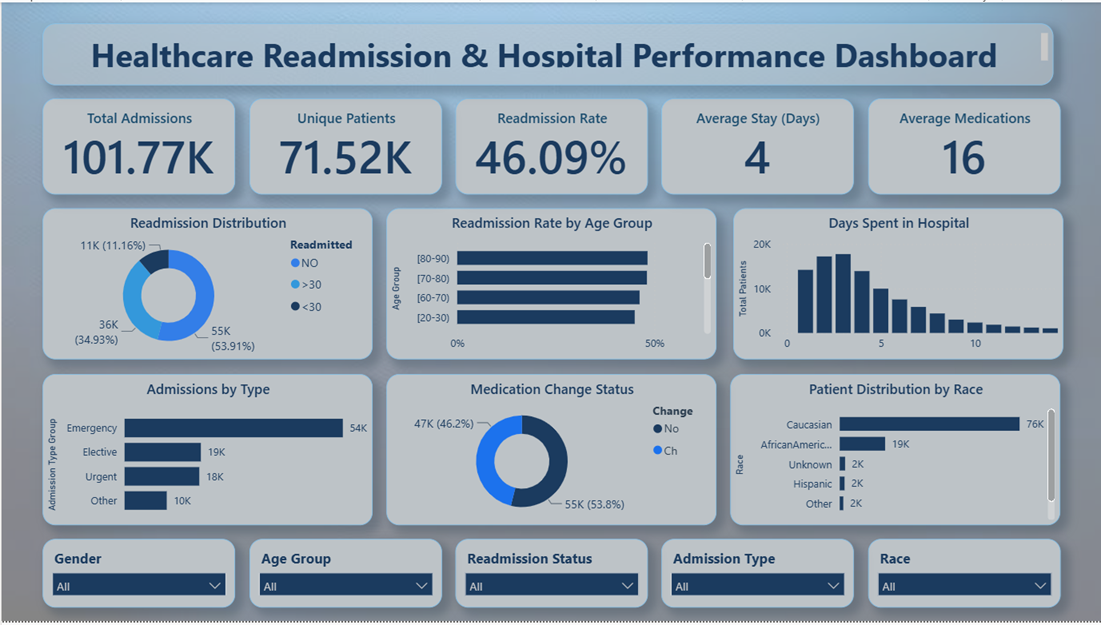

The dashboard page shown, as its layout file describes it:
{"tool":"powerbi","page":{"name":"Duplicate of Page 1","canvas":[1280,720],"ordinal":1},"visuals":[{"type":"donutChart","title":"Readmission Distribution ","fields":{"Category":["healthcare_cleaned.readmitted"],"Y":["measures_table.Total Patients"]},"box":[48,240,384,176],"z":0},{"type":"barChart","title":"Readmission Rate by Age Group","fields":{"Category":["healthcare_cleaned.age"],"Y":["measures_table.Readmission Rate"]},"box":[448,240,384,176],"z":1000},{"type":"columnChart","title":"Days Spent in Hospital","fields":{"Category":["healthcare_cleaned.time_in_hospital"],"Y":["measures_table.Total Patients"]},"box":[851,240,384,176],"z":2000},{"type":"barChart","title":"Admissions by Type","fields":{"Y":["measures_table.Total Patients"],"Category":["healthcare_cleaned.Admission Type Group"]},"box":[48,432,384,176],"z":3000},{"type":"barChart","title":"Patient Distribution by Race","fields":{"Category":["healthcare_cleaned.race"],"Y":["measures_table.Total Patients"]},"box":[848,432,384,176],"z":4000},{"type":"donutChart","title":"Medication Change Status","fields":{"Category":["healthcare_cleaned.change"],"Y":["measures_table.Total Patients"]},"box":[448,432,384,176],"z":5000},{"type":"slicer","fields":{"Values":["healthcare_cleaned.race"]},"box":[1008,624,224,80],"z":6000},{"type":"slicer","fields":{"Values":["healthcare_cleaned.admission_type"]},"box":[768,624,224,80],"z":7000},{"type":"slicer","fields":{"Values":["healthcare_cleaned.readmitted"]},"box":[528,624,224,80],"z":8000},{"type":"slicer","fields":{"Values":["healthcare_cleaned.gender"]},"box":[48,624,224,80],"z":9000},{"type":"slicer","fields":{"Values":["healthcare_cleaned.age"]},"box":[288,624,224,80],"z":10000},{"type":"card","title":"Total Admissions","fields":{"Values":["measures_table.Total Patients"]},"box":[48,112,224,112],"z":11000},{"type":"card","title":"Readmission Rate","fields":{"Values":["measures_table.Readmission Rate"]},"box":[528,112,224,112],"z":12000},{"type":"card","title":"Average Stay (Days)","fields":{"Values":["measures_table.Average Stay"]},"box":[768,112,224,112],"z":13000},{"type":"card","title":"Average Medications","fields":{"Values":["measures_table.Average Medications"]},"box":[1008,112,224,112],"z":14000},{"type":"card","title":"Unique Patients","fields":{"Values":["measures_table.Unique Patients"]},"box":[288,112,224,112],"z":15000},{"type":"textbox","box":[48,24,1176,72],"z":16000}]}

Visuals, with their boxes in screenshot pixels (x1, y1, x2, y2), scaled from the page's 1280x720 canvas onto the 1101x625 screenshot:
"Readmission Distribution " donutChart: [41,208,372,361]
"Readmission Rate by Age Group" barChart: [385,208,716,361]
"Days Spent in Hospital" columnChart: [732,208,1062,361]
"Admissions by Type" barChart: [41,375,372,528]
"Patient Distribution by Race" barChart: [729,375,1060,528]
"Medication Change Status" donutChart: [385,375,716,528]
slicer - healthcare_cleaned.race: [867,542,1060,611]
slicer - healthcare_cleaned.admission_type: [661,542,853,611]
slicer - healthcare_cleaned.readmitted: [454,542,647,611]
slicer - healthcare_cleaned.gender: [41,542,234,611]
slicer - healthcare_cleaned.age: [248,542,440,611]
"Total Admissions" card: [41,97,234,194]
"Readmission Rate" card: [454,97,647,194]
"Average Stay (Days)" card: [661,97,853,194]
"Average Medications" card: [867,97,1060,194]
"Unique Patients" card: [248,97,440,194]
textbox: [41,21,1053,83]
